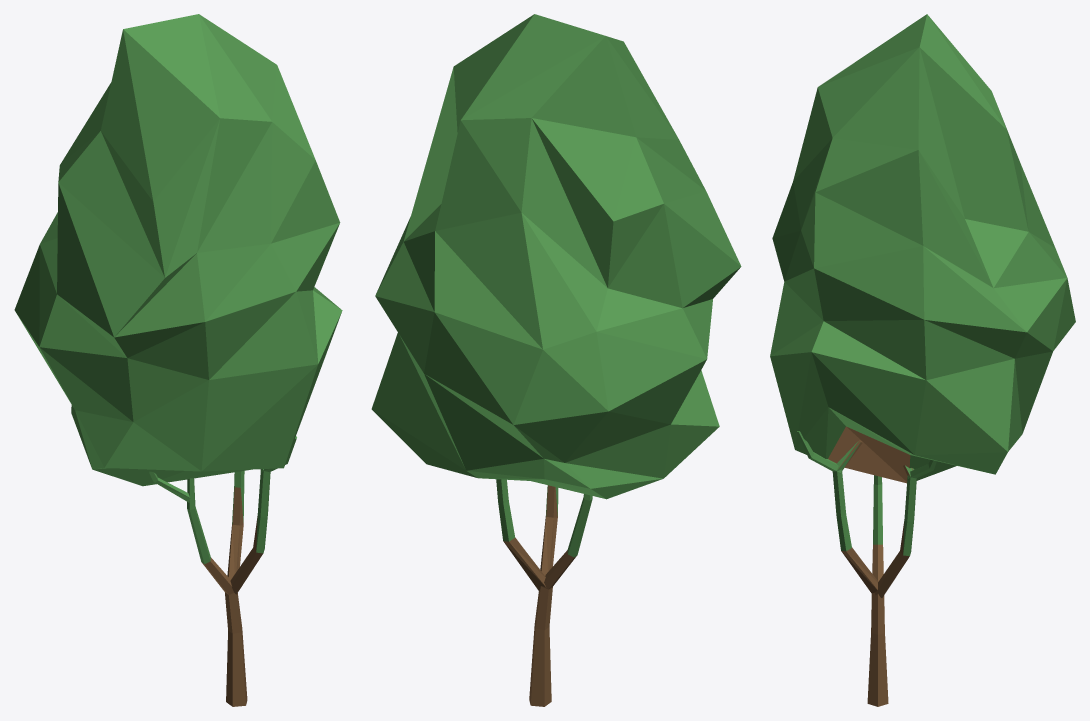
Rendered from tree3d-146.glb.
3 views of the same model, side by side, from view 1: azimuth 30°, elevation 25°; view 2: azimuth 150°, elevation 25°; view 3: azimuth 270°, elevation 25° (orthographic). The views are drawn at different scales.
Visible parts, largest first — view 1: tree3d-146; view 2: tree3d-146; view 3: tree3d-146.
Boxes of the visible parts, x1=… form: tree3d-146: x1=14, y1=14, x2=342, y2=706; tree3d-146: x1=371, y1=14, x2=741, y2=706; tree3d-146: x1=770, y1=14, x2=1075, y2=706.
Bounding box in the file's own units: 0.4283 × 1 × 0.4283.
